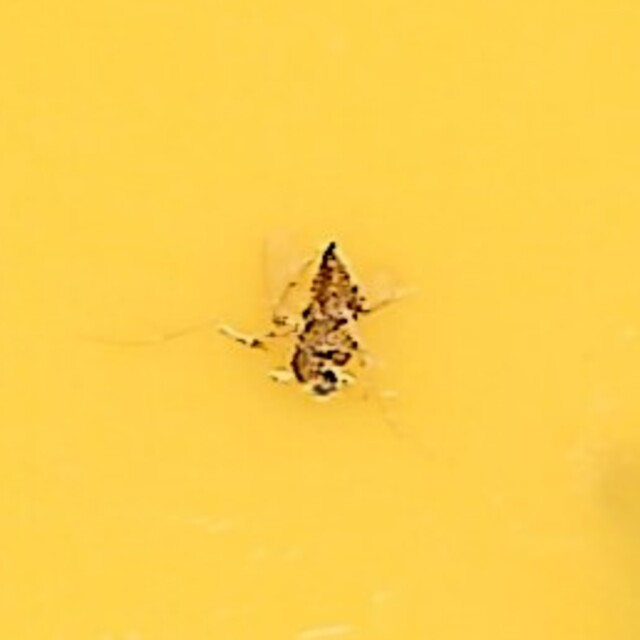Nematocera: (248, 226, 392, 414)
